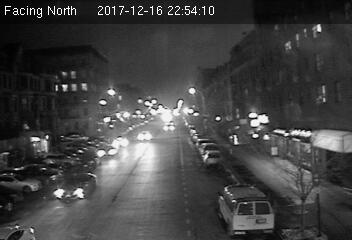car: (52, 172, 97, 201), (204, 149, 223, 169), (96, 145, 119, 158), (136, 131, 153, 142)
police: (213, 181, 275, 235)
